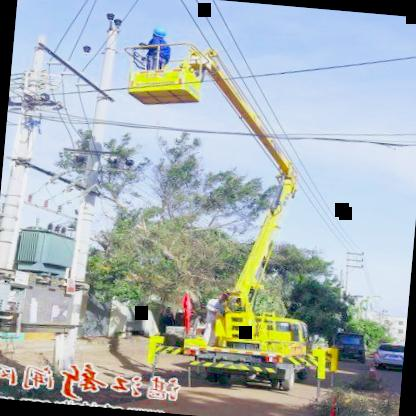helmet: (150, 24, 172, 39)
